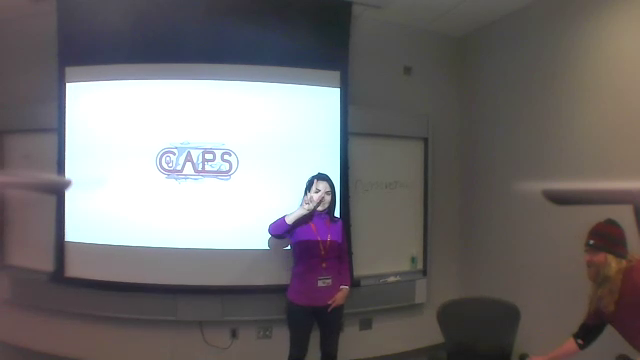peace: (300, 174, 334, 213)
